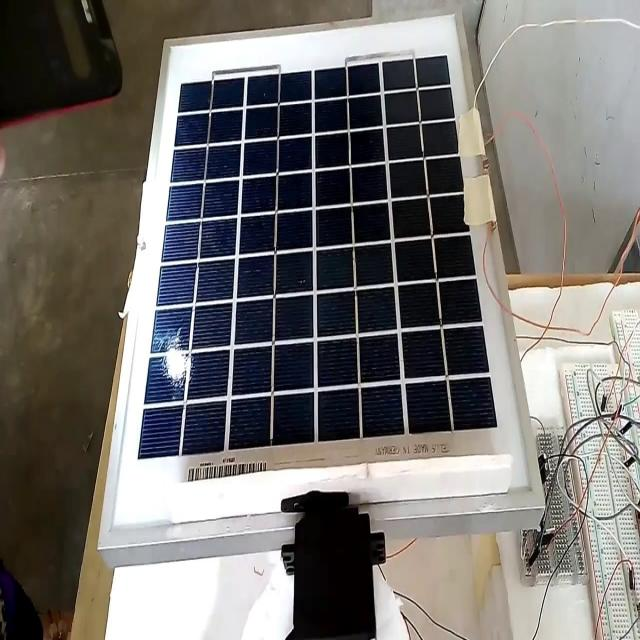faulty: (142, 59, 497, 455)
